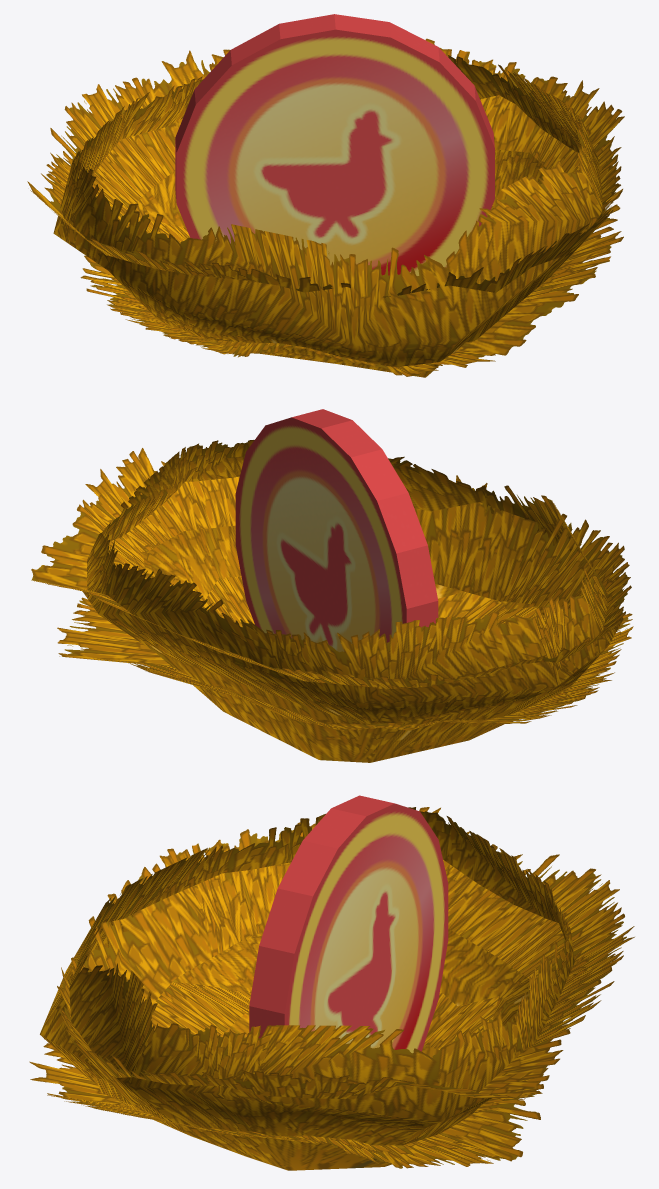
Rendered from Nido.fbx.
The picture shows the model from 3 angles, top to bottom: view 1: azimuth 30°, elevation 25°; view 2: azimuth 150°, elevation 25°; view 3: azimuth 270°, elevation 25°; orthographic projection. The views are drawn at different scales.
Parts seen in each view (by area): view 1: NidoCoin; view 2: NidoCoin; view 3: NidoCoin.
Part boxes in pixels (box(x1,y1,x2,y2)): NidoCoin: box(27, 14, 624, 377); NidoCoin: box(31, 409, 633, 762); NidoCoin: box(29, 795, 634, 1170).
Bounding box in the file's own units: 309 × 172 × 285.
